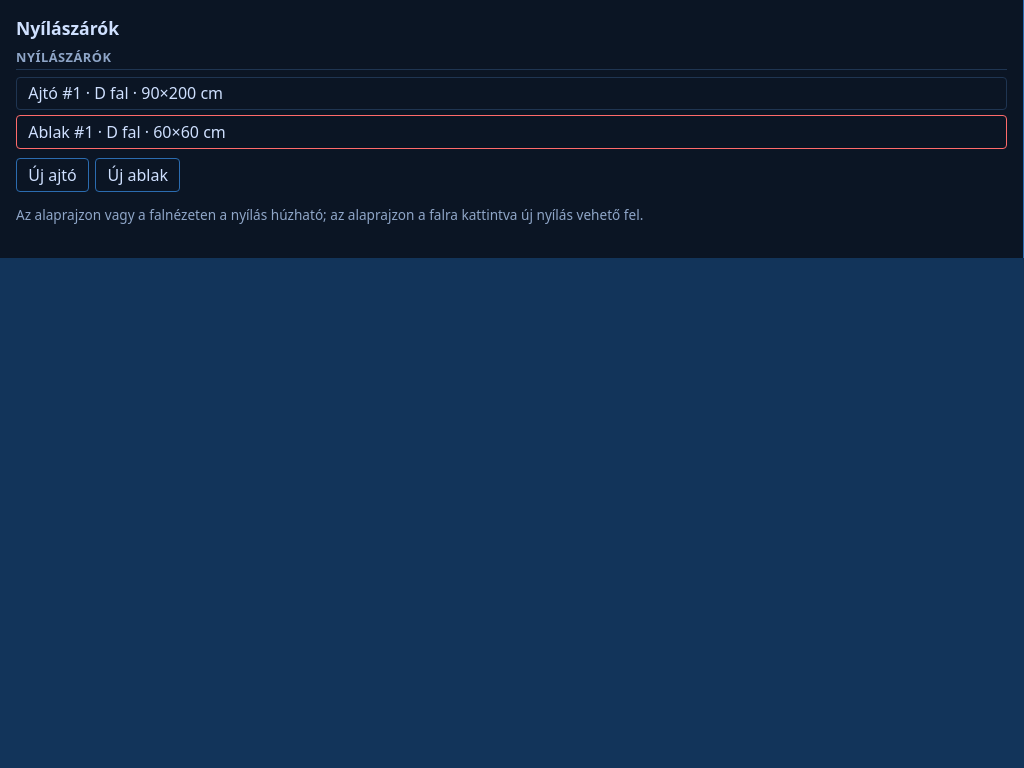
Test case: overlap error shows on the selected row
Click the button "Ablak #1 · D fal · 60×60 cm" at (127, 132), box [17, 116, 1006, 148]
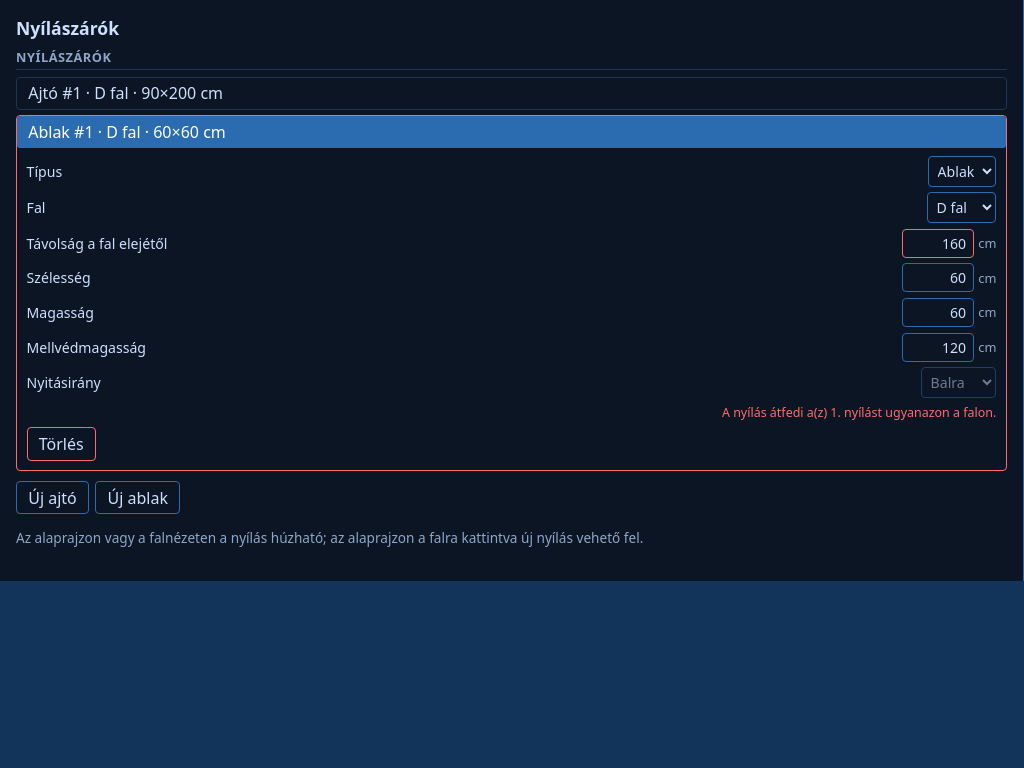
Expected: the text "átfedi" is shown, [722, 404, 996, 421]
